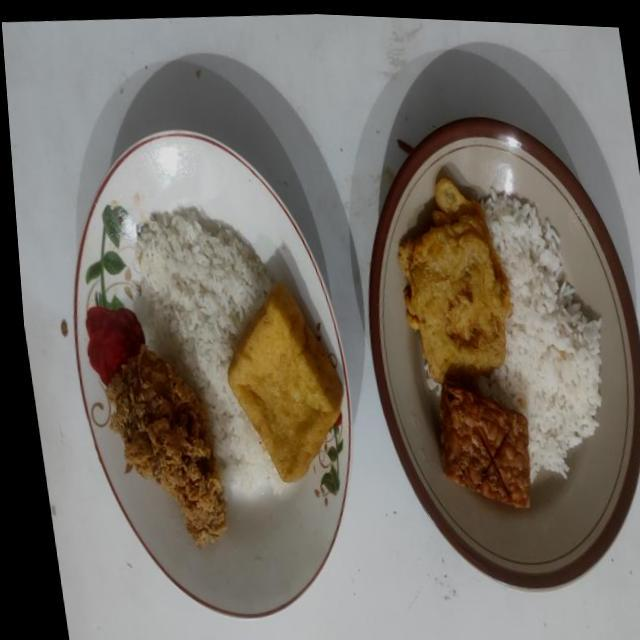nasi_putih: (134, 206, 284, 493), (481, 189, 601, 482)
tahu_goreng: (228, 282, 343, 482)
tempe_goreng: (440, 382, 530, 507)
